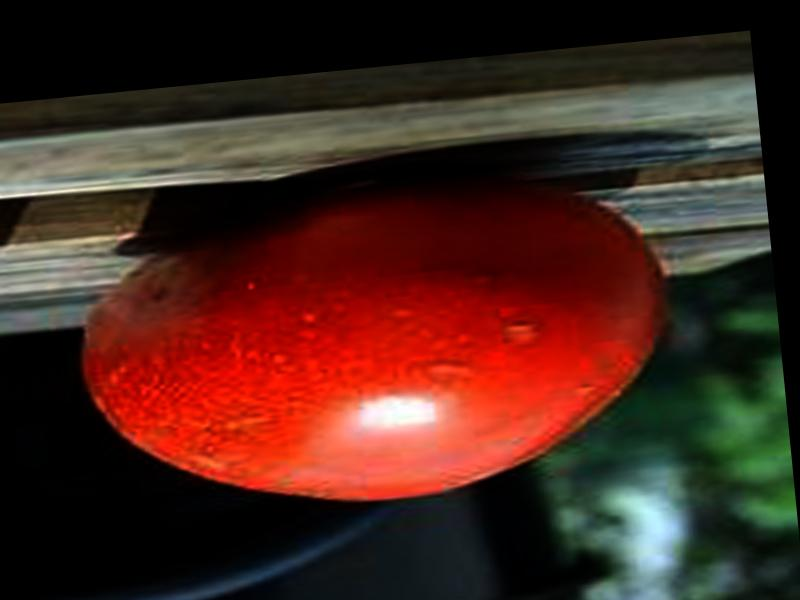Tomato: (68, 162, 685, 530)
